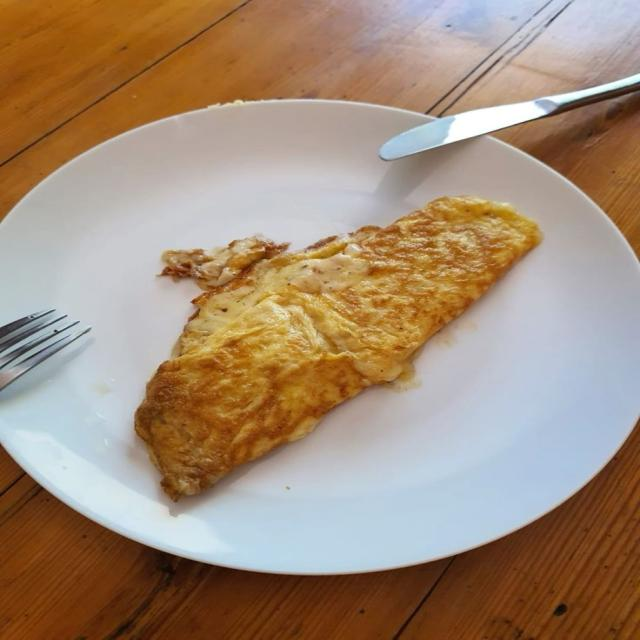omelette: (135, 198, 539, 499)
